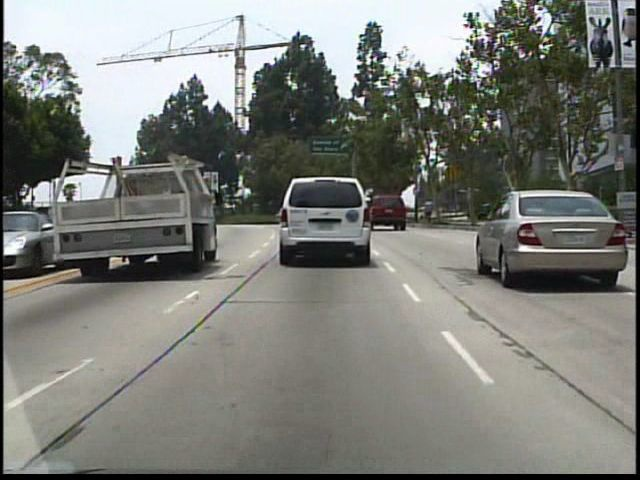person: (423, 194, 436, 226)
